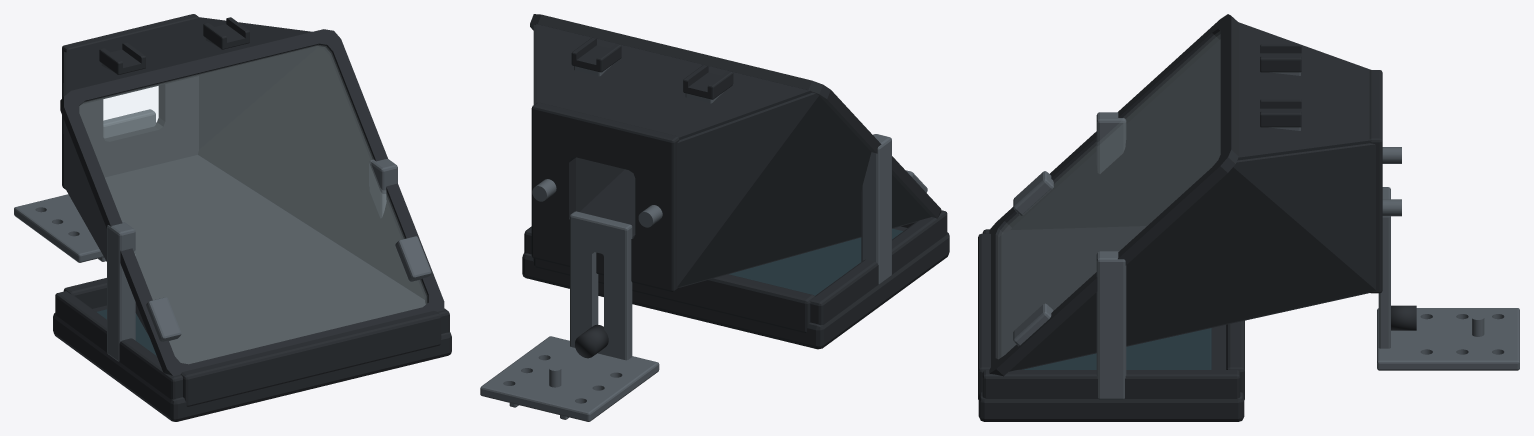
Rendered from full.fbx.
3 views of the same model, side by side, from view 1: azimuth 30°, elevation 25°; view 2: azimuth 150°, elevation 25°; view 3: azimuth 270°, elevation 25° (orthographic). The views are drawn at different scales.
Visible parts, largest first — view 1: Angled transparent panel, Hood lower return, Hood right wall, Angled glass border, Tray front rim, Rear camera aperture plate, Tray floor, Hood roof, Tray side rim -1, Camera shelf, Vertical tray support -1, Hood left wall (+8 smaller); view 2: Hood left wall, Rear camera aperture plate, Hood roof, Camera shelf, Slotted vertical camera bracket, Tray floor, Tray rear rim, Angled glass border, Tray side rim -1, Blank recessed screen, Vertical tray support -1, Hood lower return (+4 smaller); view 3: Hood right wall, Angled transparent panel, Hood left wall, Angled glass border, Hood roof, Hood lower return, Camera shelf, Tray floor, Tray side rim 1, Vertical tray support 1, Blank recessed screen, Rear camera aperture plate (+9 smaller).
Part boxes in pixels (x1,y1,x2,y2): Angled transparent panel: (79,45,426,363); Hood lower return: (105,155,425,364); Hood right wall: (198,47,424,299); Angled glass border: (60,29,444,376); Tray front rim: (180,311,441,406); Rear camera aperture plate: (62,14,199,189); Tray floor: (53,305,451,421); Hood roof: (66,17,312,94); Tray side rim -1: (55,291,182,399); Camera shelf: (14,194,103,262); Vertical tray support -1: (107,221,135,361); Hood left wall: (63,51,148,335); Hood left wall: (677,92,930,287); Rear camera aperture plate: (531,102,679,291); Hood roof: (536,24,812,139); Camera shelf: (480,336,659,421); Slotted vertical camera bracket: (570,211,632,360); Tray floor: (522,226,949,349); Tray rear rim: (533,258,814,332); Angled glass border: (530,14,941,218); Tray side rim -1: (810,210,947,325); Blank recessed screen: (729,228,902,295); Vertical tray support -1: (861,134,891,284); Hood lower return: (580,169,919,287); Hood right wall: (1009,143,1375,371); Angled transparent panel: (1001,34,1220,356); Hood left wall: (1010,39,1220,229); Angled glass border: (989,14,1238,376); Hood roof: (1237,22,1371,160); Hood lower return: (999,226,1369,369); Camera shelf: (1377,308,1519,370); Tray floor: (978,325,1244,421); Tray side rim 1: (982,370,1240,398); Vertical tray support 1: (1096,251,1126,399); Blank recessed screen: (1022,328,1211,369); Rear camera aperture plate: (1369,70,1382,293).
Size of the model in its own units: 22.7 by 19.3 by 34.9.
